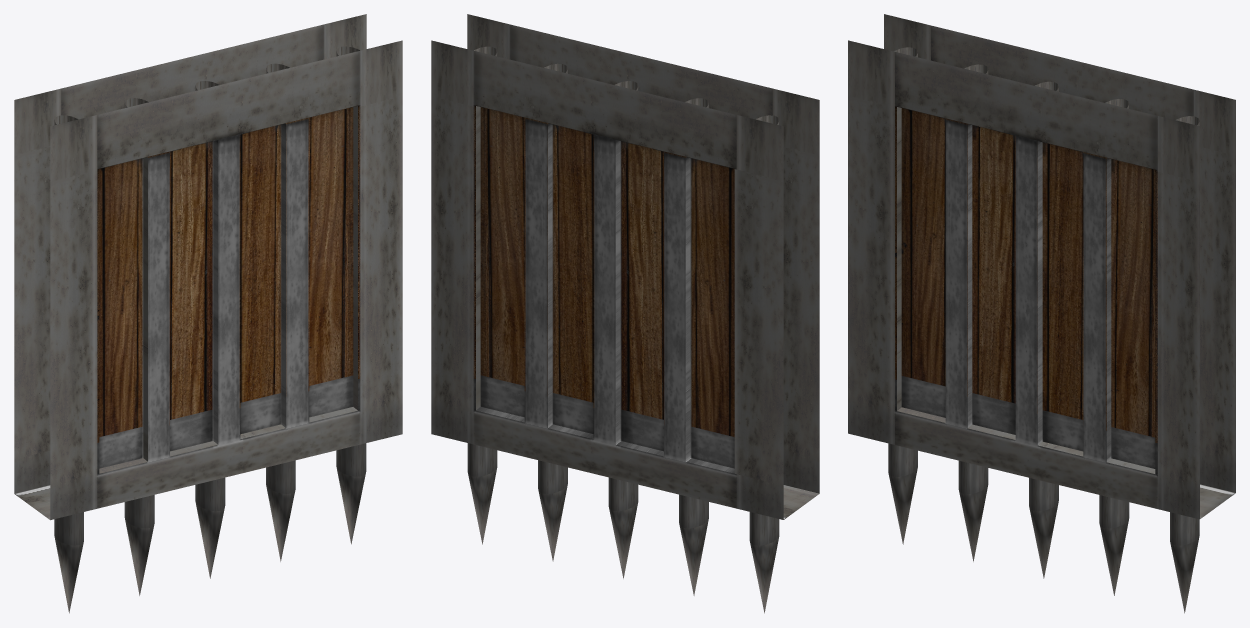
The model's file is door.glb.
3 renders of one model, left to right at view 1: azimuth 30°, elevation 25°; view 2: azimuth 150°, elevation 25°; view 3: azimuth 330°, elevation 25°, orthographic.
Parts seen in each view (by area): view 1: door; view 2: door; view 3: door.
Boxes of the visible parts, x1=… form: door: x1=14, y1=14, x2=402, y2=613; door: x1=431, y1=14, x2=819, y2=613; door: x1=848, y1=14, x2=1235, y2=613.
Size of the model in its own units: 3.11 by 4.3 by 0.5509.
Materials: 1 (1 with a texture image).
